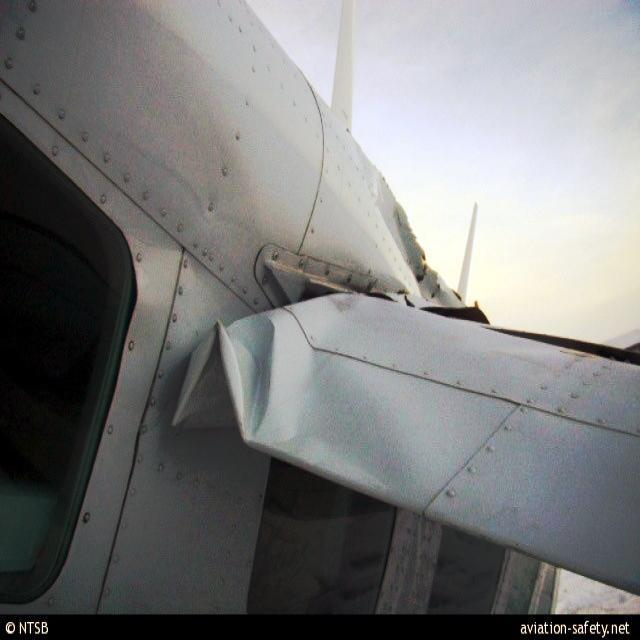dent: (167, 309, 274, 453)
